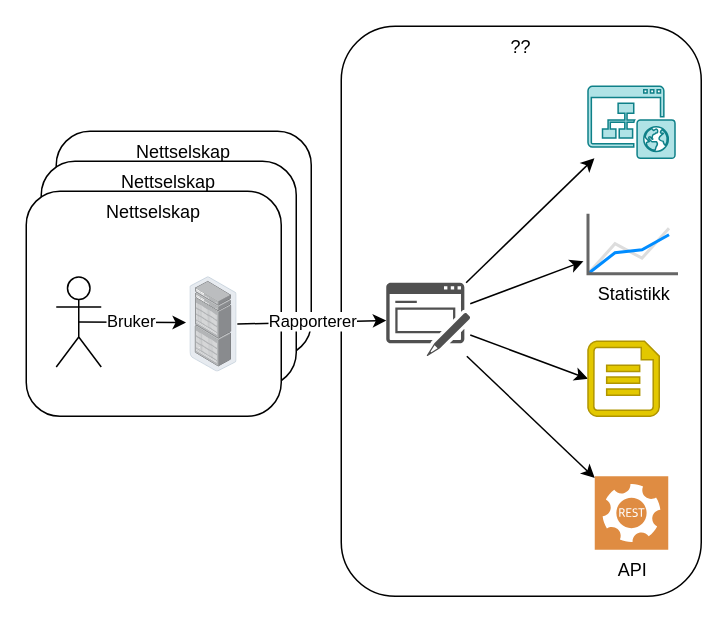
The diagram is 728 pixels wide and 623 high, and some of its shapes have lost their labels. Each missing label, with the centre of its shape:
"Nettside" goes at [630,121].
"Skjema / API" goes at [428,319].
"Tariffer" goes at [622,378].
